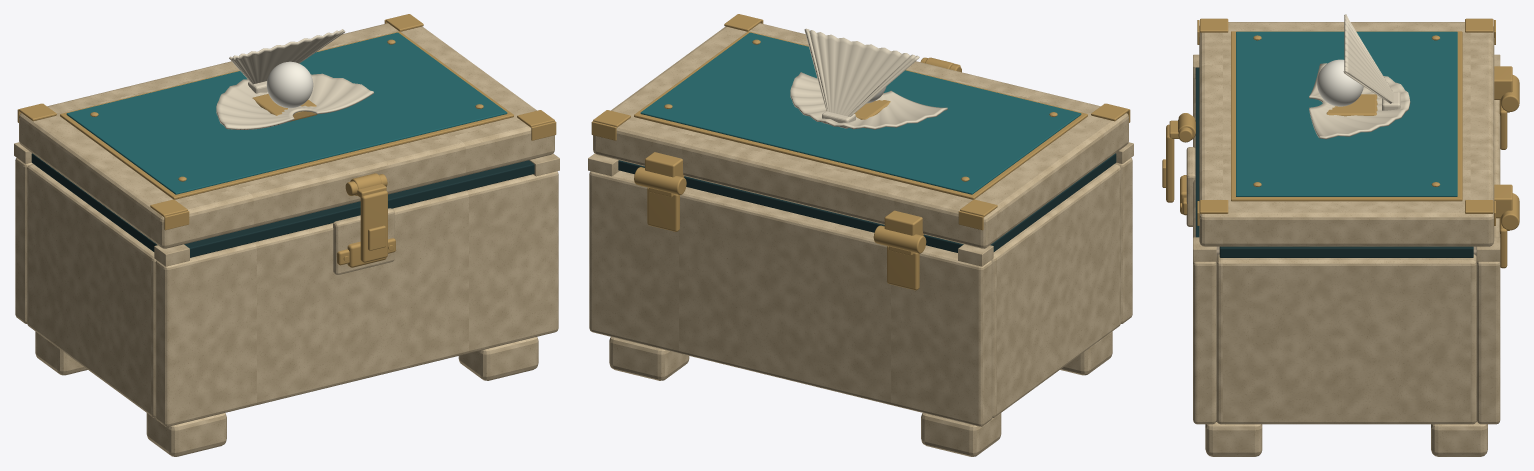
The model's file is bahrain.glb.
3 views of the same model, side by side, from view 1: azimuth 30°, elevation 25°; view 2: azimuth 150°, elevation 25°; view 3: azimuth 270°, elevation 25° (orthographic).
Visible parts, largest first — view 1: Stone / front, Lid / polished slab, Lid / lagoon inset, Stone / side, Seam / long, Oyster / lower radial valve, Lid / brass inset surround, Stone / foot, Stone / foot.002, Oyster / raised radial valve, Stone / rear, Pearl / central ivory (+6 smaller); view 2: Stone / rear, Lid / lagoon inset, Lid / polished slab, Stone / side, Oyster / raised radial valve, Lid / brass inset surround, Oyster / lower radial valve, Seam / long.001, Stone / foot.001, Stone / foot.003, Stone / front, Seam / side (+8 smaller); view 3: Stone / side.001, Lid / lagoon inset, Lid / polished slab, Stone / rear, Stone / front, Lid / brass inset surround, Seam / side.001, Oyster / lower radial valve, Oyster / raised radial valve, Stone / foot.002, Stone / foot.003, Pearl / central ivory (+14 smaller).
Boxes of the visible parts, left/top/right/bottom form: Stone / front: left=155, top=171, right=558, bottom=426; Lid / polished slab: left=19, top=23, right=554, bottom=248; Lid / lagoon inset: left=66, top=32, right=507, bottom=194; Stone / side: left=27, top=164, right=156, bottom=418; Seam / long: left=184, top=160, right=534, bottom=257; Oyster / lower radial valve: left=216, top=73, right=373, bottom=129; Lid / brass inset surround: left=60, top=31, right=513, bottom=199; Stone / foot: left=146, top=413, right=226, bottom=456; Stone / foot.002: left=458, top=337, right=538, bottom=380; Oyster / raised radial valve: left=229, top=29, right=345, bottom=84; Stone / rear: left=15, top=157, right=32, bottom=323; Pearl / central ivory: left=266, top=61, right=313, bottom=108; Stone / rear: left=589, top=170, right=992, bottom=426; Lid / lagoon inset: left=640, top=32, right=1081, bottom=194; Lid / polished slab: left=593, top=23, right=1128, bottom=248; Stone / side: left=991, top=164, right=1120, bottom=418; Oyster / raised radial valve: left=804, top=28, right=919, bottom=116; Lid / brass inset surround: left=634, top=31, right=1087, bottom=199; Oyster / lower radial valve: left=790, top=72, right=947, bottom=129; Seam / long.001: left=618, top=160, right=963, bottom=252; Stone / foot.001: left=921, top=413, right=1001, bottom=456; Stone / foot.003: left=609, top=337, right=689, bottom=380; Stone / front: left=1115, top=157, right=1132, bottom=323; Seam / side: left=990, top=153, right=1116, bottom=251; Stone / side.001: left=1216, top=254, right=1476, bottom=424; Lid / lagoon inset: left=1236, top=31, right=1457, bottom=196; Lid / polished slab: left=1199, top=22, right=1494, bottom=246; Stone / rear: left=1476, top=100, right=1500, bottom=424; Stone / front: left=1193, top=79, right=1216, bottom=424; Lid / brass inset surround: left=1231, top=31, right=1462, bottom=201; Seam / side.001: left=1219, top=246, right=1473, bottom=257; Oyster / lower radial valve: left=1309, top=63, right=1410, bottom=139; Oyster / raised radial valve: left=1343, top=14, right=1393, bottom=103; Stone / foot.002: left=1205, top=422, right=1262, bottom=456; Stone / foot.003: left=1431, top=422, right=1487, bottom=456; Pearl / central ivory: left=1317, top=59, right=1363, bottom=106.
Bounding box in the file's own units: 3.72 × 2.91 × 2.88.
Materials: 7 (1 with a texture image).
